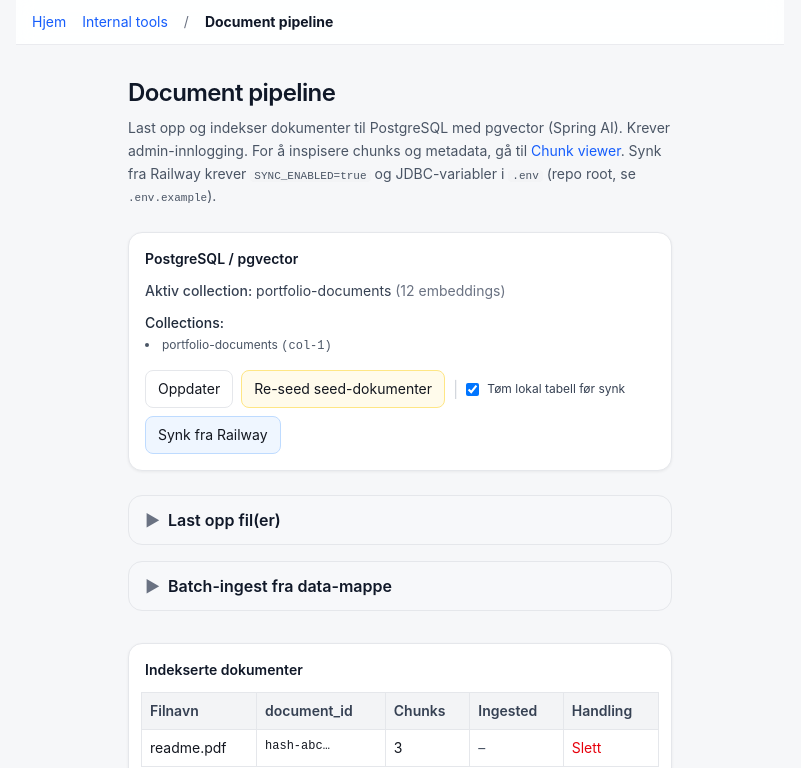
Test: Admin CRUD views (integration-style) › AdminPipelineView shows message when upload has no files
The image size is (801, 768).
What coordinates should you click on to do the following:
click the heading "▶ Last opp fil(er)"
I would click on:
 (213, 520)
Its box is [145, 510, 281, 530].
(page scrolled)
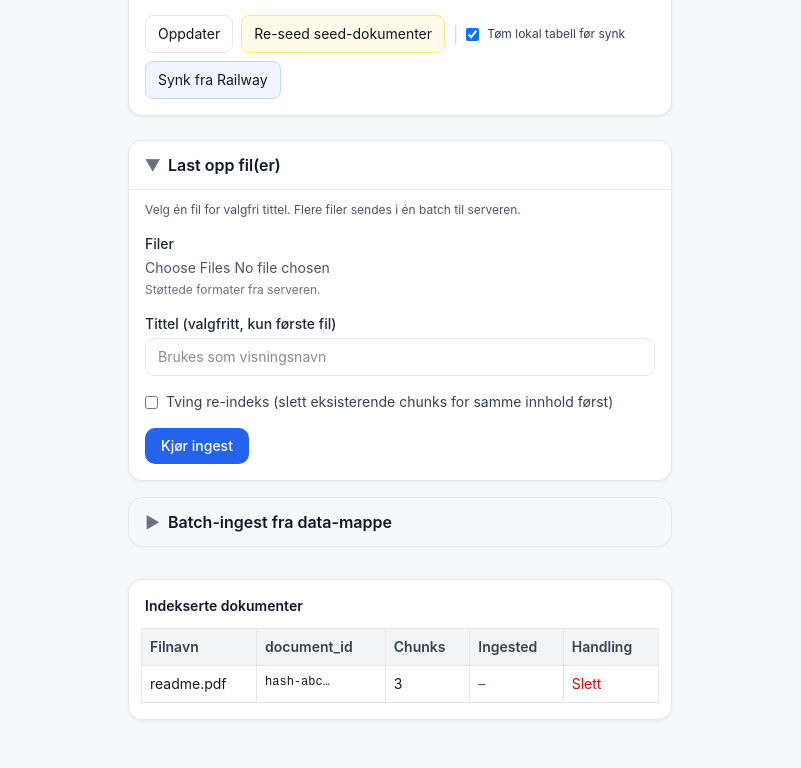
Check: the button "Kjør ingest" is shown
What coordinates should you click on to do the following:
click the button "Kjør ingest"
I would click on:
 (197, 446)
Its box is [145, 428, 249, 464].
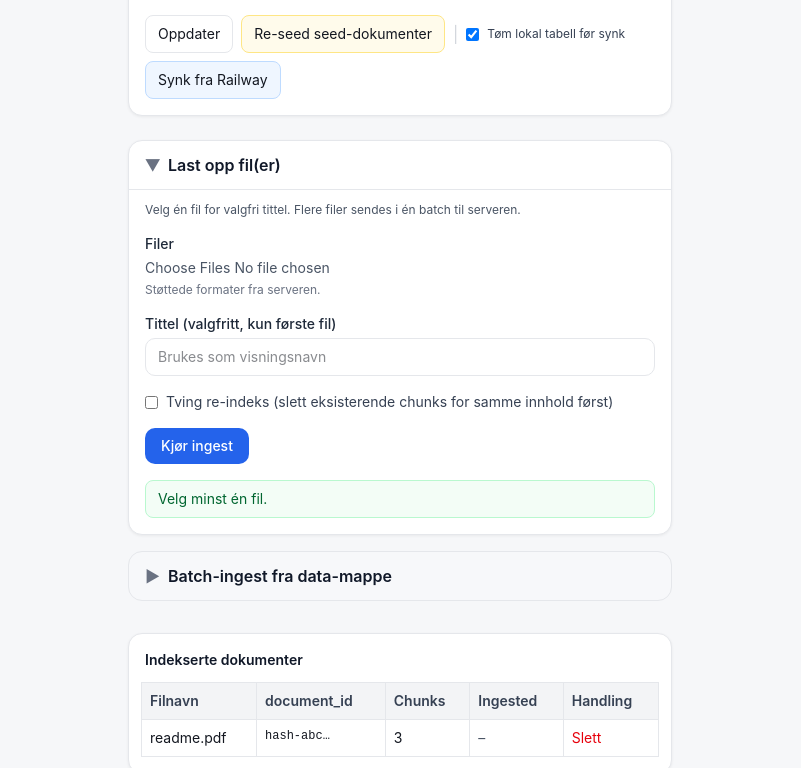
Check: the text "Velg minst én fil" is shown, box [158, 490, 267, 507]
